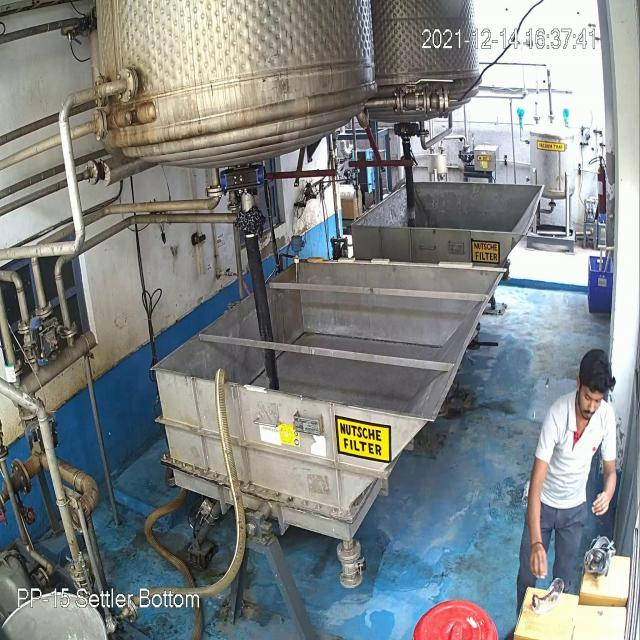No_Gloves: (522, 468, 552, 584)
